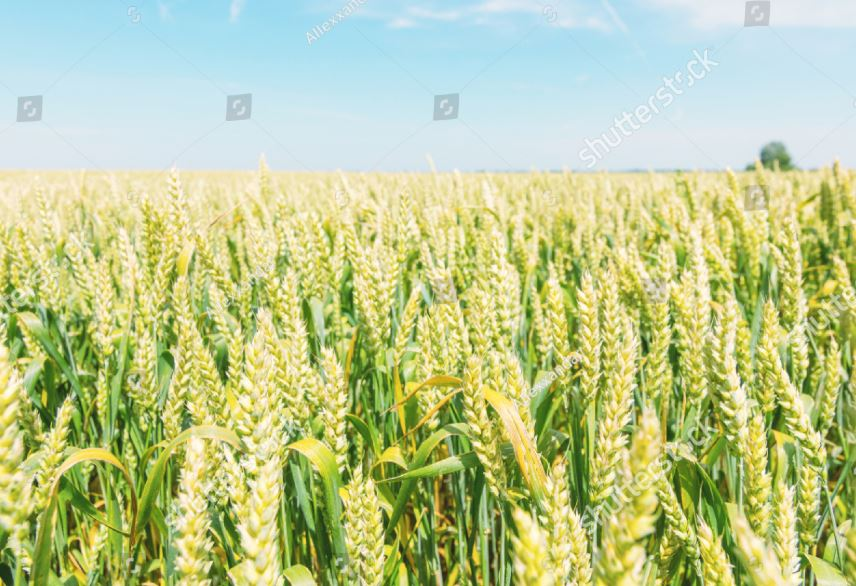Wheat: (151, 236, 739, 555)
